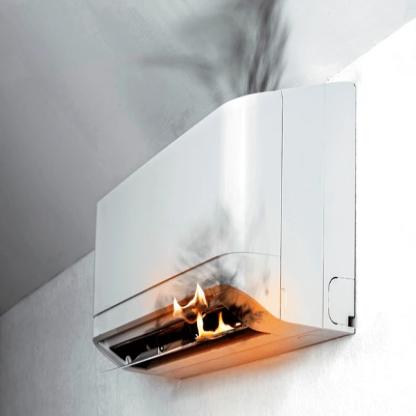fire: (167, 291, 237, 345)
